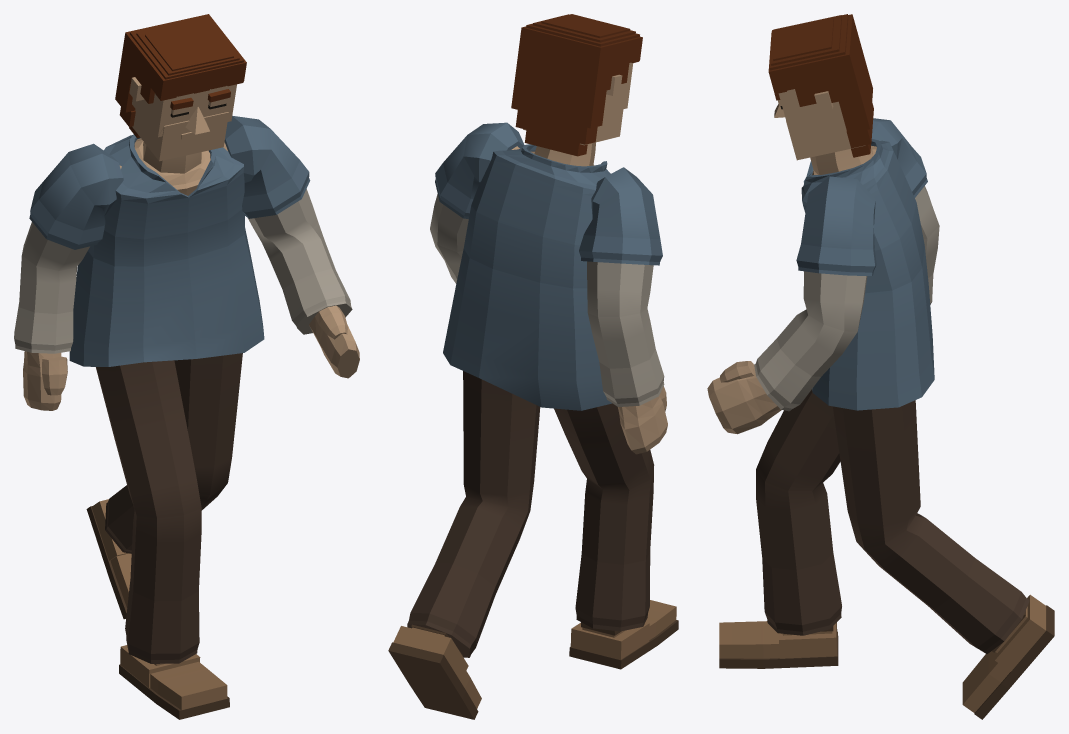
The model's file is suburban-resident-a9db9c__walk5.glb.
3 renders of one model, left to right at view 1: azimuth 30°, elevation 25°; view 2: azimuth 150°, elevation 25°; view 3: azimuth 270°, elevation 25°, orthographic.
Parts seen in each view (by area): view 1: suburban-resident-a9db9c__walk5; view 2: suburban-resident-a9db9c__walk5; view 3: suburban-resident-a9db9c__walk5.
Part boxes in pixels (x1,y1,x2,y2): suburban-resident-a9db9c__walk5: (14, 14, 359, 719); suburban-resident-a9db9c__walk5: (388, 14, 678, 719); suburban-resident-a9db9c__walk5: (707, 14, 1054, 719).
Size of the model in its own units: 0.7455 by 1.72 by 0.8278.
